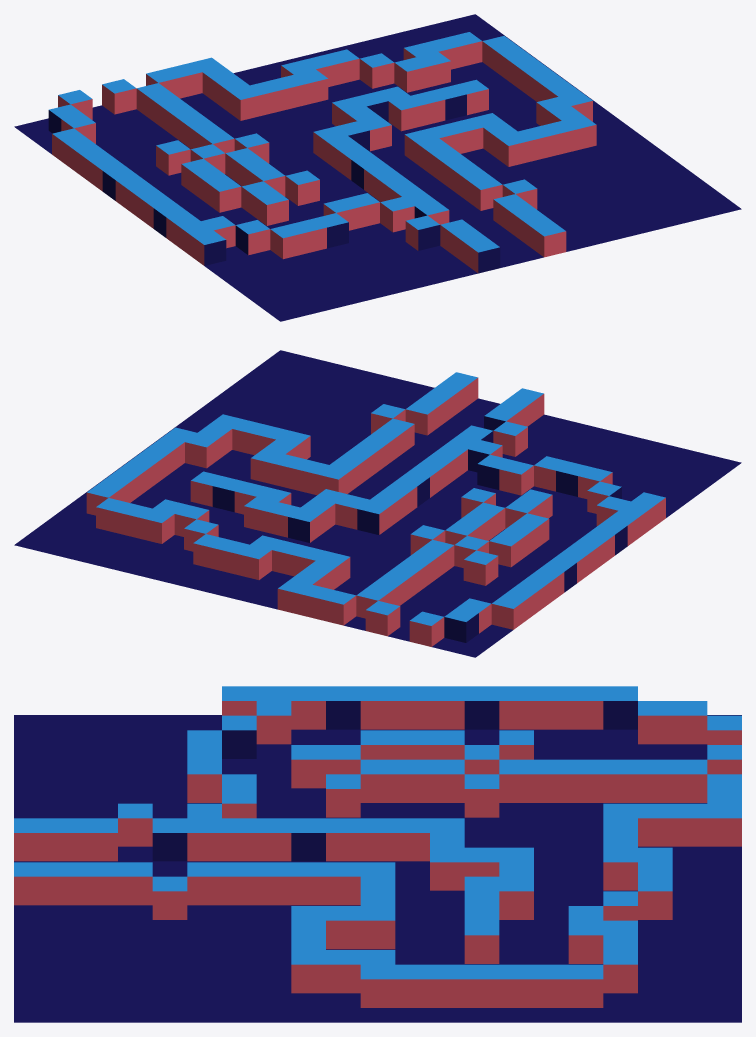
File: level.fbx
3 views of the same model, one above another, from view 1: azimuth 30°, elevation 25°; view 2: azimuth 150°, elevation 25°; view 3: azimuth 270°, elevation 25° (orthographic). The views are drawn at different scales.
Visible parts, largest first — view 1: Plane; view 2: Plane; view 3: Plane.
Part boxes in pixels (x1,y1,x2,y2): Plane: (14,14,741,321); Plane: (14,350,741,657); Plane: (14,686,741,1022).
Bounding box in the file's own units: 1491 × 64.65 × 1491.
